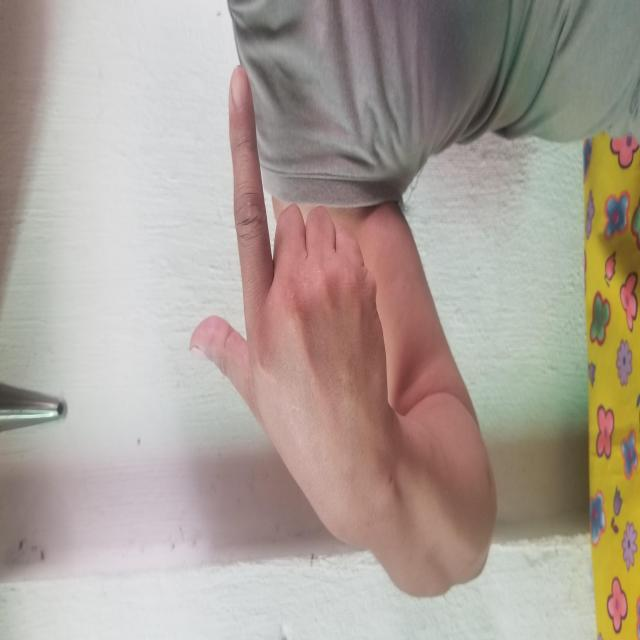G: (190, 191, 572, 388)
